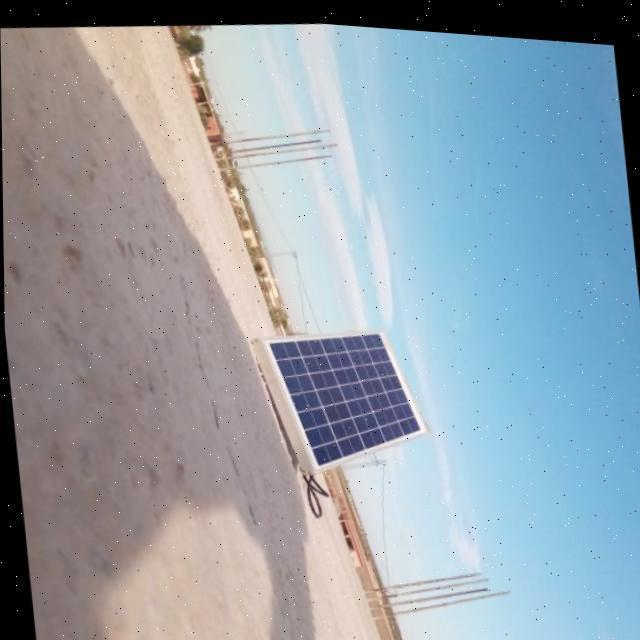Normal Solar Panel: (257, 313, 433, 477)
